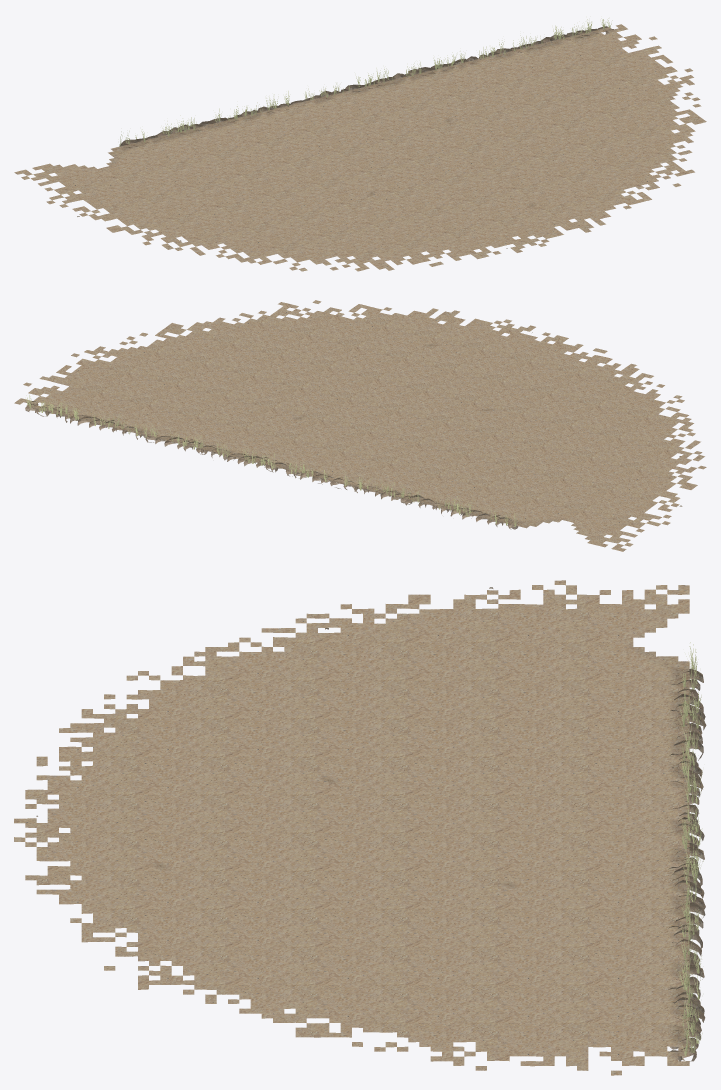
The picture shows the model from 3 angles, top to bottom: view 1: azimuth 30°, elevation 25°; view 2: azimuth 150°, elevation 25°; view 3: azimuth 270°, elevation 25°; orthographic projection. The views are drawn at different scales.
Parts seen in each view (by area): view 1: shore, rock, reed; view 2: shore, rock, reed; view 3: shore, rock, reed.
Part boxes in pixels (bbox=[...]): shore: bbox=[14, 24, 706, 271]; rock: bbox=[77, 26, 645, 248]; reed: bbox=[119, 18, 612, 145]; shore: bbox=[14, 300, 706, 551]; rock: bbox=[25, 332, 682, 529]; reed: bbox=[26, 395, 517, 526]; shore: bbox=[14, 580, 689, 1075]; rock: bbox=[36, 587, 706, 1061]; reed: bbox=[676, 642, 703, 1055].
Bounding box in the file's own units: 52 × 1.65 × 30.77.
3 materials, 2 textured.
